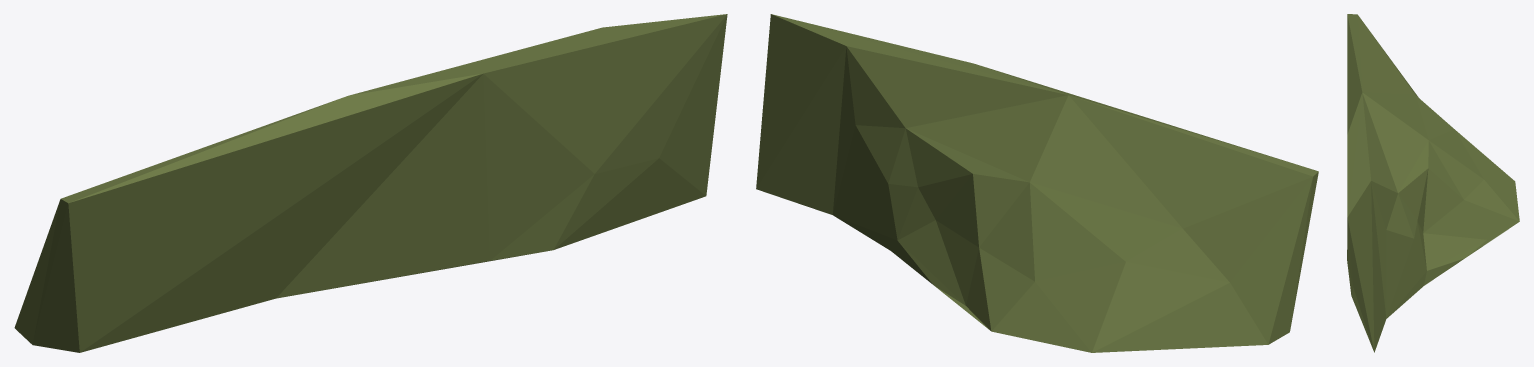
The model's file is ground_51.fbx.
3 renders of one model, left to right at view 1: azimuth 30°, elevation 25°; view 2: azimuth 150°, elevation 25°; view 3: azimuth 270°, elevation 25°, orthographic. The views are drawn at different scales.
Visible parts, largest first — view 1: ground_51; view 2: ground_51; view 3: ground_51.
Boxes of the visible parts, x1,y1,x2,y2 form: ground_51: [14, 14, 727, 352]; ground_51: [756, 14, 1318, 352]; ground_51: [1347, 14, 1519, 352].
Size of the model in its own units: 7.1 by 2.02 by 2.32.
